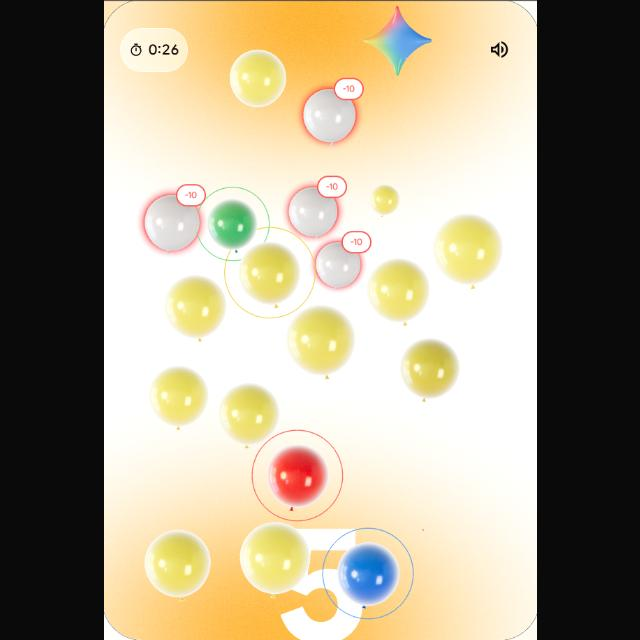gemini: (354, 0, 436, 82)
hazard: (134, 184, 206, 256), (284, 167, 344, 243), (301, 80, 363, 146), (310, 232, 372, 292)
safe: (432, 208, 506, 292), (236, 523, 312, 601), (288, 303, 358, 382), (144, 528, 216, 604), (144, 363, 212, 432), (162, 278, 228, 346), (366, 255, 429, 325), (224, 46, 288, 112), (399, 333, 459, 402), (221, 382, 277, 448), (370, 186, 400, 218)
sequence: (318, 523, 418, 625), (252, 422, 348, 528), (223, 228, 314, 322), (196, 181, 272, 263)
